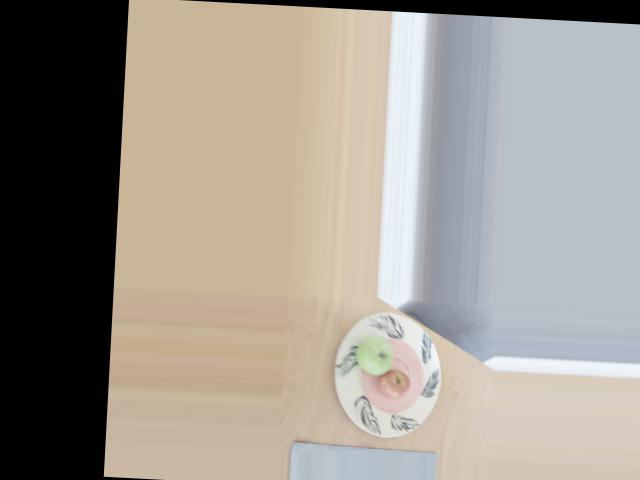apple: (351, 332, 394, 376)
